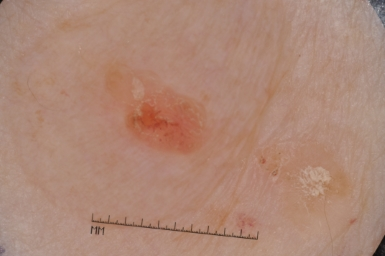seborrheic keratosis: (86, 60, 347, 212)
